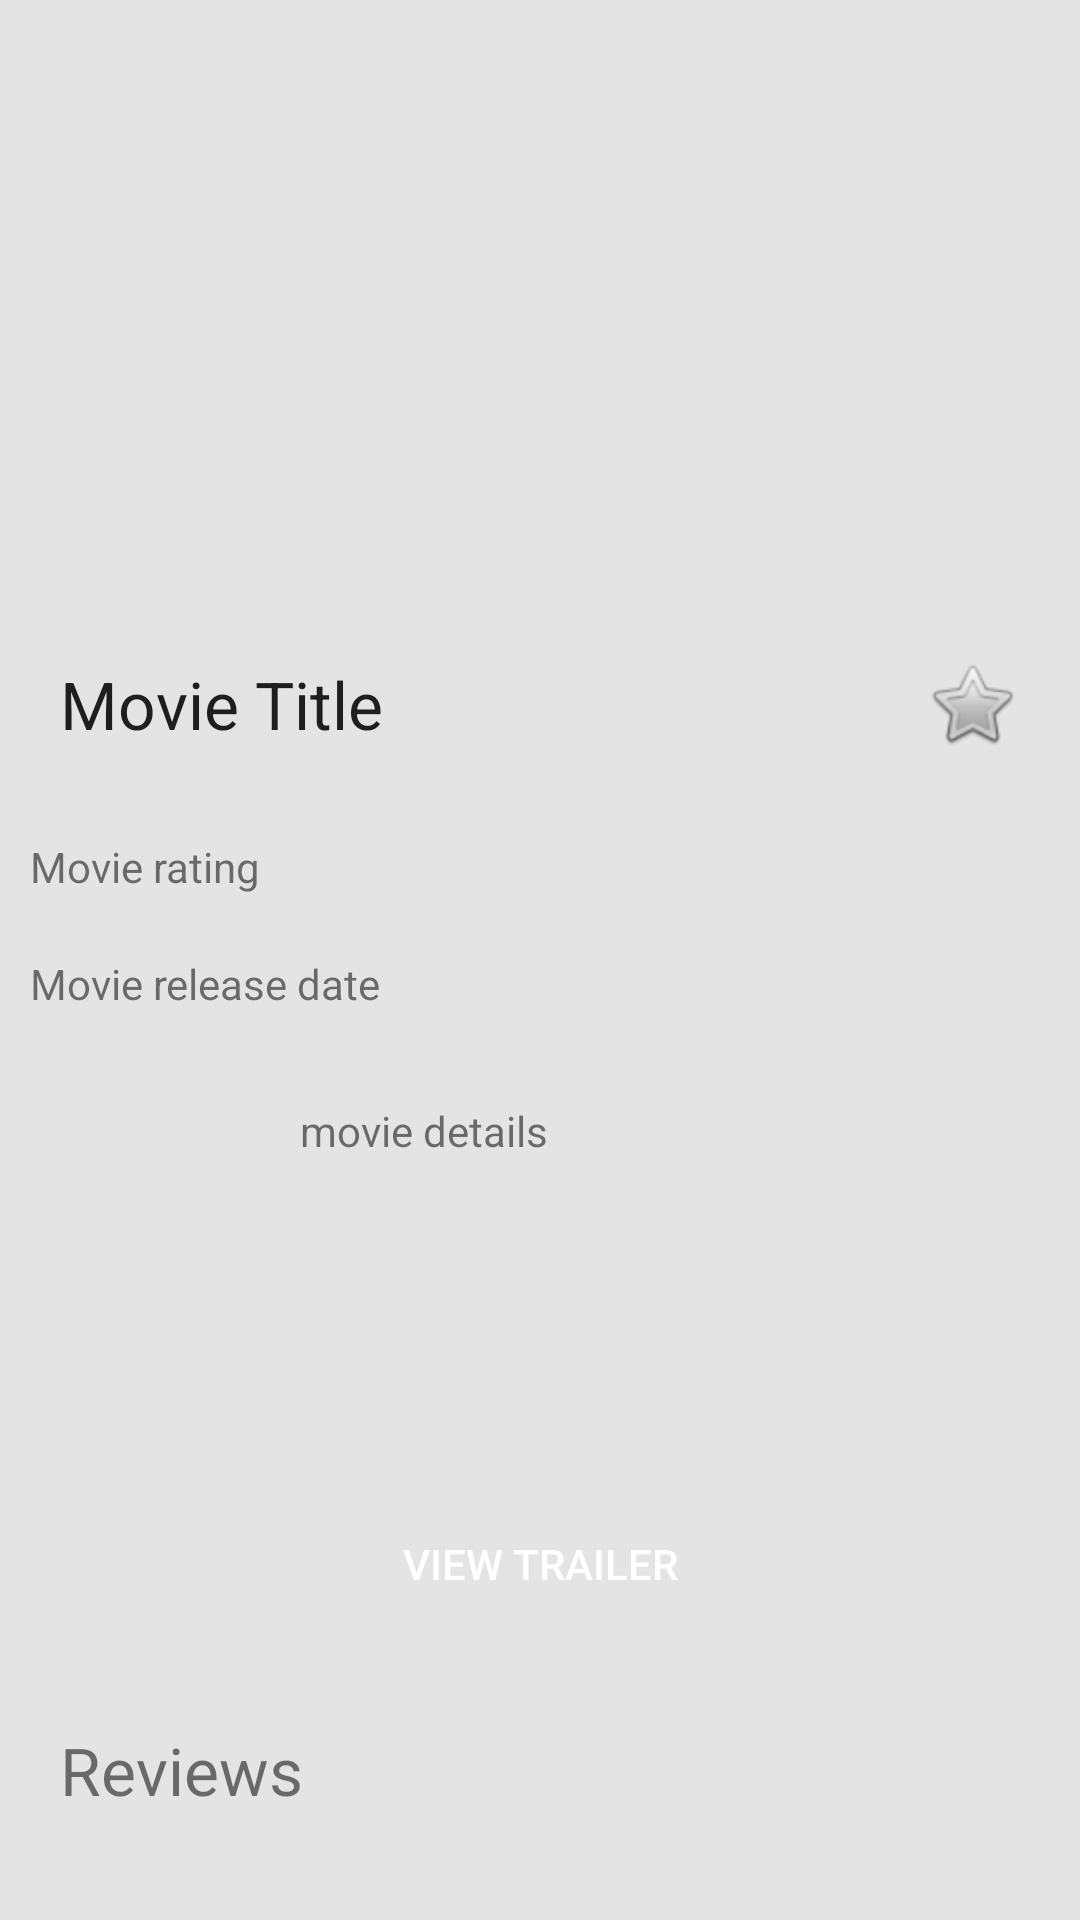

Icons on this 1080px×1920px Android screen, each with its box as rect(x1, y1, x2, y2):
star: rect(933, 666, 1013, 744)
